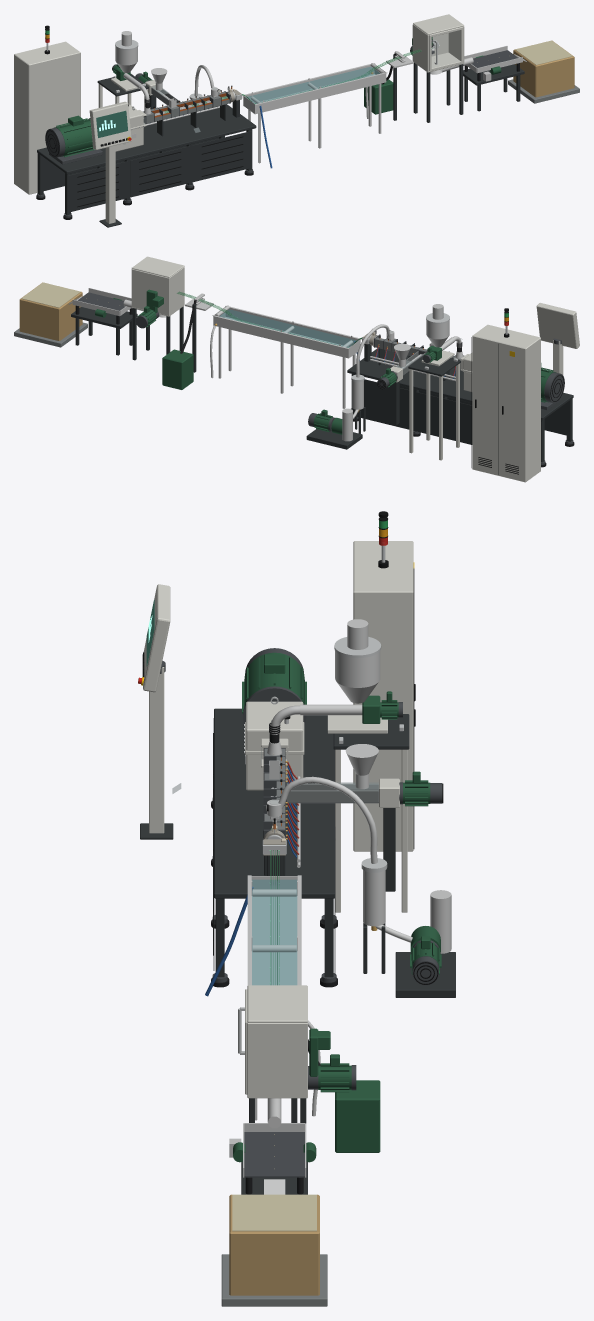
Rendered from compounding-motion.glb.
The picture shows the model from 3 angles, top to bottom: view 1: azimuth 30°, elevation 25°; view 2: azimuth 150°, elevation 25°; view 3: azimuth 270°, elevation 25°; orthographic projection. The views are drawn at different scales.
Visible parts, largest first — view 1: BaseFrame, Control cabinet, WaterBath, PelletiserHousing, Octabin, DriveTrain, Classifier, LossInWeightFeeder, Operator panel head, AirKnife, BarrelBlocks, Operator panel stand (+4 smaller); view 2: Control cabinet, BaseFrame, WaterBath, PelletiserHousing, LossInWeightFeeder, Octabin, VacuumSystem, Classifier, AirKnife, Operator panel head, DriveTrain, SideFeeder (+3 smaller); view 3: BaseFrame, Control cabinet, Octabin, PelletiserHousing, LossInWeightFeeder, VacuumSystem, WaterBath, DriveTrain, SideFeeder, Classifier, AirKnife, Operator panel stand (+3 smaller).
Part boxes in pixels (x1,y1,x2,y2): BaseFrame: (36, 104, 256, 219); Control cabinet: (14, 41, 80, 194); WaterBath: (242, 63, 387, 168); PelletiserHousing: (410, 14, 473, 122); Octabin: (508, 40, 579, 103); DriveTrain: (45, 104, 146, 164); Classifier: (463, 46, 526, 111); LossInWeightFeeder: (97, 31, 151, 114); Operator panel head: (89, 101, 131, 149); AirKnife: (364, 51, 413, 120); BarrelBlocks: (142, 90, 229, 123); Operator panel stand: (99, 145, 121, 227); Control cabinet: (471, 324, 540, 482); BaseFrame: (347, 348, 574, 467); WaterBath: (210, 305, 361, 408); PelletiserHousing: (123, 256, 184, 360); LossInWeightFeeder: (408, 304, 463, 460); Octabin: (14, 282, 87, 347); VacuumSystem: (306, 324, 394, 449); Classifier: (68, 288, 137, 355); AirKnife: (162, 293, 213, 389); Operator panel head: (536, 303, 579, 348); DriveTrain: (460, 353, 564, 410); SideFeeder: (377, 343, 426, 425); BaseFrame: (211, 708, 337, 987); Control cabinet: (353, 541, 415, 851); Octabin: (221, 1194, 327, 1306); PelletiserHousing: (238, 985, 356, 1128); LossInWeightFeeder: (267, 619, 409, 912); VacuumSystem: (266, 776, 455, 997); WaterBath: (205, 875, 320, 1120); DriveTrain: (242, 648, 306, 790); SideFeeder: (285, 744, 443, 891); Classifier: (229, 1123, 316, 1194); AirKnife: (291, 1039, 380, 1152); Operator panel stand: (140, 661, 173, 839).
Bounding box in the file's own units: 7.92 × 2.29 × 2.1.
